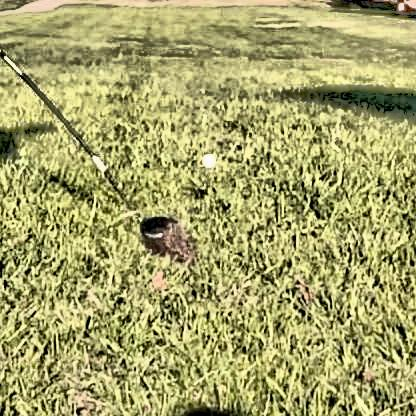golfball: (200, 150, 214, 165)
